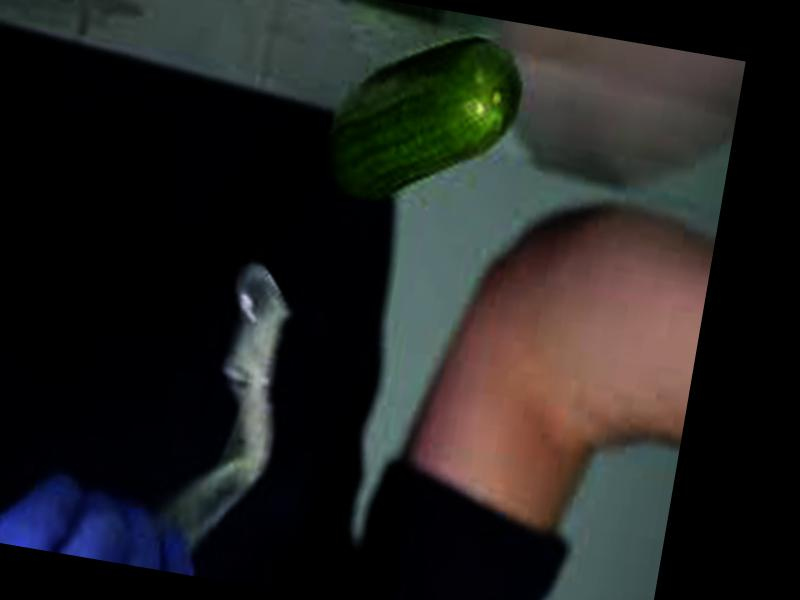Cucumber: (321, 15, 529, 221)
